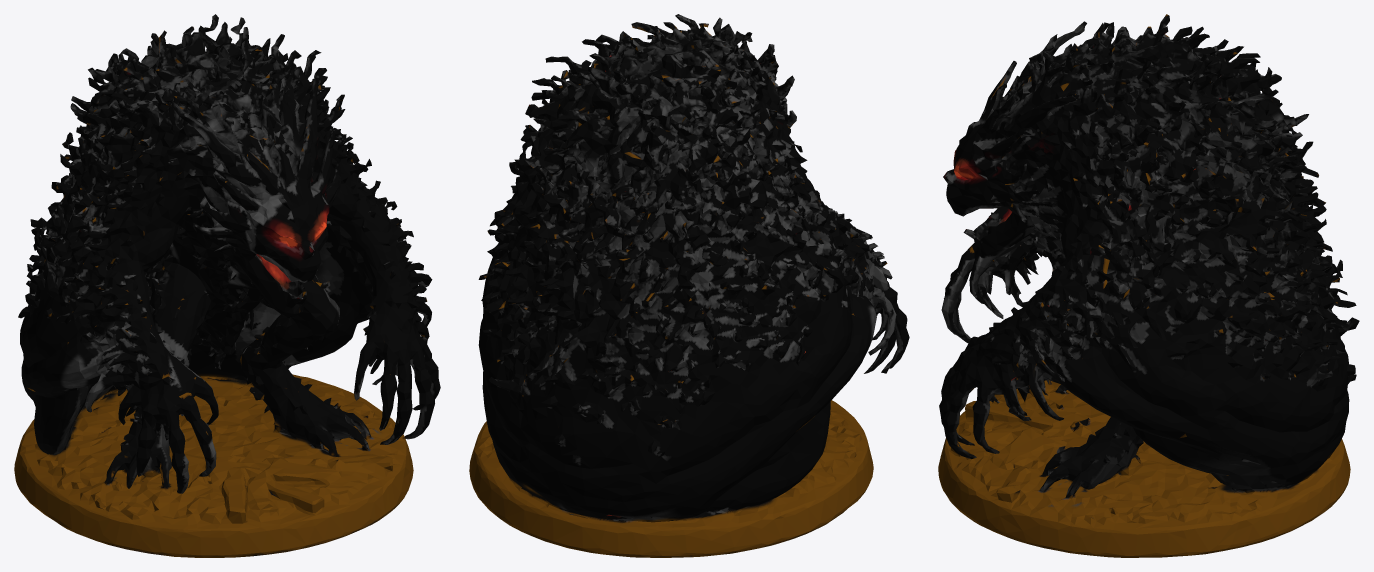
The model's file is bugbear.glb.
3 views of the same model, side by side, from view 1: azimuth 30°, elevation 25°; view 2: azimuth 150°, elevation 25°; view 3: azimuth 270°, elevation 25° (orthographic).
Parts seen in each view (by area): view 1: tmpghkpyspe.ply.001; view 2: tmpghkpyspe.ply.001; view 3: tmpghkpyspe.ply.001.
Boxes of the visible parts, x1=… form: tmpghkpyspe.ply.001: x1=14, y1=14, x2=440, y2=557; tmpghkpyspe.ply.001: x1=469, y1=14, x2=909, y2=557; tmpghkpyspe.ply.001: x1=938, y1=14, x2=1359, y2=557.
Bounding box in the file's own units: 1.7 × 1.97 × 1.73.
1 material, 1 textured.
